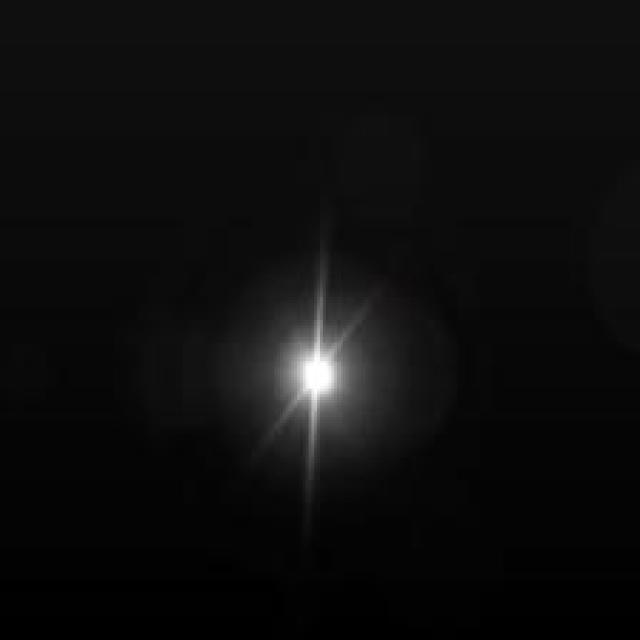other: (278, 332, 363, 442)
